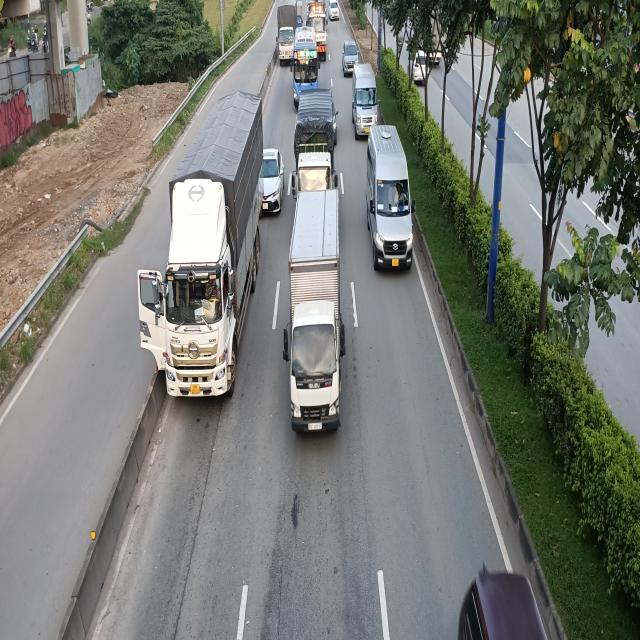car: (262, 150, 284, 217), (342, 40, 358, 78), (330, 0, 340, 20)
coach: (292, 25, 318, 100)
truck: (155, 90, 262, 400), (281, 192, 346, 435), (292, 88, 338, 188), (276, 1, 298, 68), (311, 4, 328, 61)
van: (366, 126, 413, 272), (351, 64, 378, 139)
